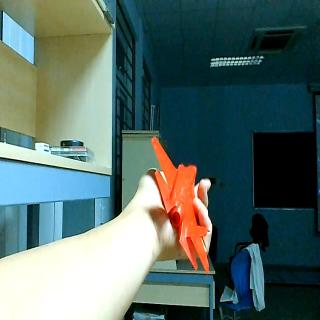Jet: (151, 133, 209, 273)
